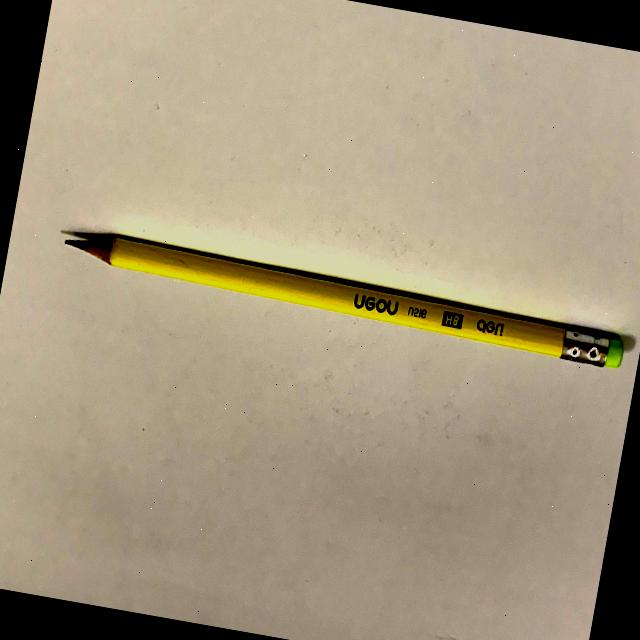Pencil: (32, 205, 640, 385)
